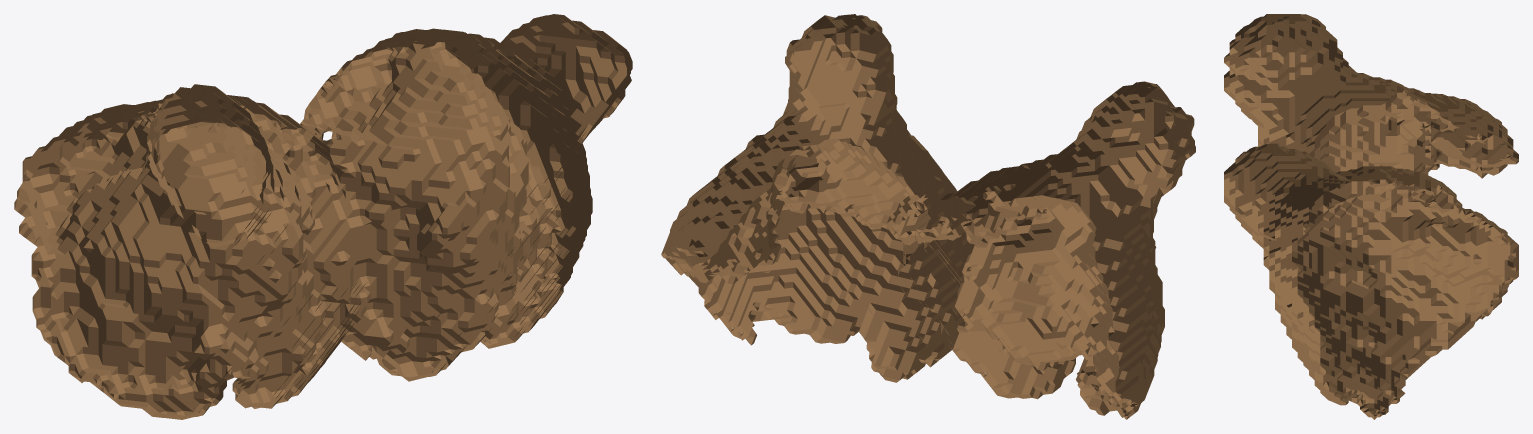
Rendered from region_0116_POF__primary_olfactory_fiber_layer_.glb.
3 renders of one model, left to right at view 1: azimuth 30°, elevation 25°; view 2: azimuth 150°, elevation 25°; view 3: azimuth 270°, elevation 25°, orthographic. The views are drawn at different scales.
Parts seen in each view (by area): view 1: world; view 2: world; view 3: world.
Part boxes in pixels (x1,y1,x2,y2): world: (14, 14, 632, 419); world: (661, 14, 1195, 419); world: (1224, 14, 1518, 419).
Bounding box in the file's own units: 0.632 × 0.432 × 0.416.
